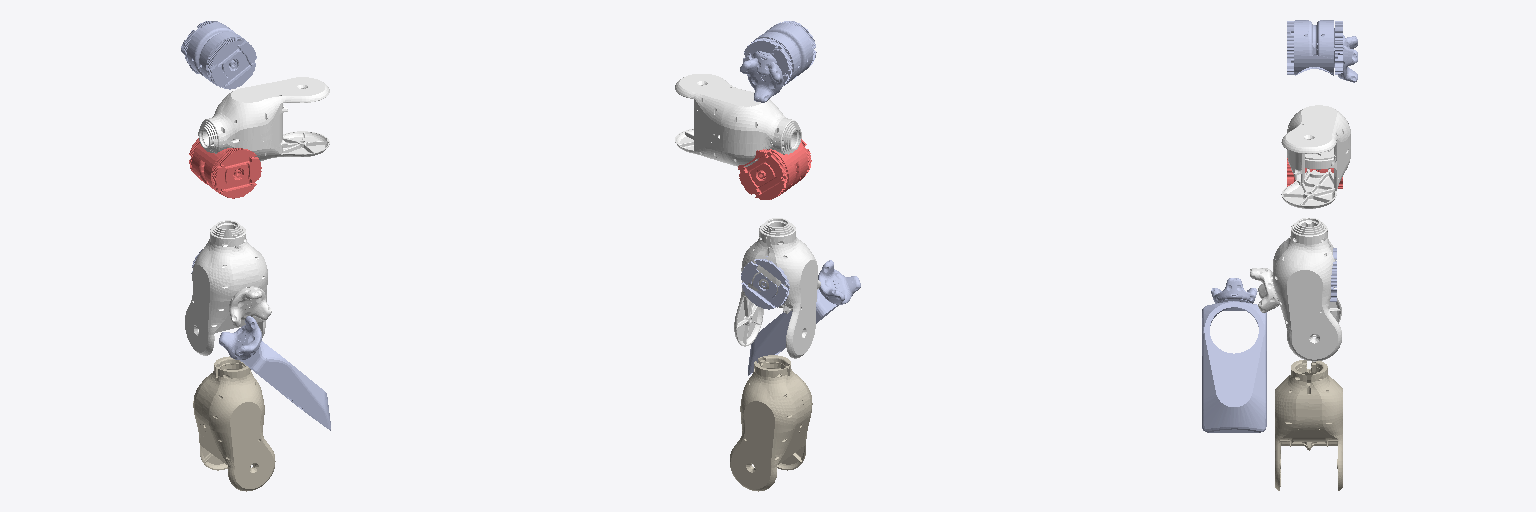
The robot description file, URDF, robot "koko_description_sevendof_dyn":
<robot
  name="koko_description_sevendof_dyn">
  <link
    name="base_link">
    <inertial>
      <origin
        xyz="0.0560024374186662 0.000189445541681321 0.0201835602327798"
        rpy="0 0 0" />
      <mass
        value="0.284612172465311" />
      <inertia
        ixx="0.000716950374478633"
        ixy="-4.58477843167981E-06"
        ixz="4.20772050305934E-06"
        iyy="0.00197711566495113"
        iyz="9.13561852910017E-07"
        izz="0.00239705630031167" />
    </inertial>
    <visual>
      <origin
        xyz="0 0 0"
        rpy="0 0 0" />
      <geometry>
        <mesh
          filename="package://koko_description_sevendof_dyn/meshes/base_link.STL" />
      </geometry>
      <material
        name="">
        <color
          rgba="0.792156862745098 0.819607843137255 0.933333333333333 1" />
      </material>
    </visual>
    <collision>
      <origin
        xyz="0 0 0"
        rpy="0 0 0" />
      <geometry>
        <mesh
          filename="package://koko_description_sevendof_dyn/meshes/base_link.STL" />
      </geometry>
    </collision>
  </link>
  <link
    name="shoulder_link">
    <inertial>
      <origin
        xyz="0.0043477541389173 2.01234773878345E-05 -0.0764683318824377"
        rpy="0 0 0" />
      <mass
        value="1.80901122392276" />
      <inertia
        ixx="0.0091937456982913"
        ixy="1.27362263865398E-08"
        ixz="0.00010247865043886"
        iyy="0.00871917388181738"
        iyz="3.26622166777351E-06"
        izz="0.00388062453070139" />
    </inertial>
    <visual>
      <origin
        xyz="0 0 0"
        rpy="0 0 0" />
      <geometry>
        <mesh
          filename="package://koko_description_sevendof_dyn/meshes/shoulder_link.STL" />
      </geometry>
      <material
        name="">
        <color
          rgba="0.843137254901961 0.815686274509804 0.752941176470588 1" />
      </material>
    </visual>
    <collision>
      <origin
        xyz="0 0 0"
        rpy="0 0 0" />
      <geometry>
        <mesh
          filename="package://koko_description_sevendof_dyn/meshes/shoulder_link.STL" />
      </geometry>
    </collision>
  </link>
  <joint
    name="base_roll_joint"
    type="revolute">
    <origin
      xyz="0 0 0.054356"
      rpy="3.1416 -2.2011E-29 0.0" />
    <parent
      link="base_link" />
    <child
      link="shoulder_link" />
    <axis
      xyz="0 0 1" />
    <limit
      lower="-2.3412"
      upper="3.3999"
      effort="0"
      velocity="0" />
  </joint>
  <link
    name="shoulder_lift_link">
    <inertial>
      <origin
        xyz="-5.0083559080677E-06 0.000232928456050885 -1.77451392545103E-05"
        rpy="0 0 0" />
      <mass
        value="0.388307108622636" />
      <inertia
        ixx="0.000804272985961788"
        ixy="4.84548777859872E-08"
        ixz="2.09160815704306E-06"
        iyy="0.000818260636171894"
        iyz="-1.44954778549764E-08"
        izz="0.000550840705045094" />
    </inertial>
    <visual>
      <origin
        xyz="0 0 0"
        rpy="0 0 0" />
      <geometry>
        <mesh
          filename="package://koko_description_sevendof_dyn/meshes/shoulder_lift_link.STL" />
      </geometry>
      <material
        name="">
        <color
          rgba="0.792156862745098 0.819607843137255 0.933333333333333 1" />
      </material>
    </visual>
    <collision>
      <origin
        xyz="0 0 0"
        rpy="0 0 0" />
      <geometry>
        <mesh
          filename="package://koko_description_sevendof_dyn/meshes/shoulder_lift_link.STL" />
      </geometry>
    </collision>
  </link>
  <joint
    name="shoulder_lift_joint"
    type="revolute">
    <origin
      xyz="-0.01143 0 -0.21082"
      rpy="-1.5708 4.4409E-16 3.1416" />
    <parent
      link="shoulder_link" />
    <child
      link="shoulder_lift_link" />
    <axis
      xyz="0 0 1" />
    <limit
      lower="-2.2944"
      upper="0"
      effort="0"
      velocity="0" />
  </joint>
  <link
    name="upper_arm_link">
    <inertial>
      <origin
        xyz="0.0052656488201055 5.32997221069781E-05 -0.0641725544925586"
        rpy="0 0 0" />
      <mass
        value="1.52396434922939" />
      <inertia
        ixx="0.00578789299599043"
        ixy="1.90247522695056E-06"
        ixz="-6.31088143287672E-05"
        iyy="0.00530315640050716"
        iyz="1.26895335190205E-06"
        izz="0.00342501474546171" />
    </inertial>
    <visual>
      <origin
        xyz="0 0 0"
        rpy="0 0 0" />
      <geometry>
        <mesh
          filename="package://koko_description_sevendof_dyn/meshes/upper_arm_link.STL" />
      </geometry>
      <material
        name="">
        <color
          rgba="1 1 1 1" />
      </material>
    </visual>
    <collision>
      <origin
        xyz="0 0 0"
        rpy="0 0 0" />
      <geometry>
        <mesh
          filename="package://koko_description_sevendof_dyn/meshes/upper_arm_link.STL" />
      </geometry>
    </collision>
  </link>
  <joint
    name="shoulder_roll_joint"
    type="revolute">
    <origin
      xyz="0 0.070147 -6.25E-05"
      rpy="-1.5708 1.5673 -3.1416" />
    <parent
      link="shoulder_lift_link" />
    <child
      link="upper_arm_link" />
    <axis
      xyz="0 0 1" />
    <limit
      lower="-2.6761"
      upper="2.6761"
      effort="0"
      velocity="0" />
  </joint>
  <link
    name="upper_arm_lift_link">
    <inertial>
      <origin
        xyz="9.06307628945058E-09 -0.00233330219603445 -1.63700112519316E-05"
        rpy="0 0 0" />
      <mass
        value="0.336087767400233" />
      <inertia
        ixx="0.000748389205107341"
        ixy="-4.35589119855736E-12"
        ixz="2.09357080801154E-06"
        iyy="0.00080505708271284"
        iyz="-3.61399621116489E-08"
        izz="0.000495723704552229" />
    </inertial>
    <visual>
      <origin
        xyz="0 0 0"
        rpy="0 0 0" />
      <geometry>
        <mesh
          filename="package://koko_description_sevendof_dyn/meshes/upper_arm_lift_link.STL" />
      </geometry>
      <material
        name="">
        <color
          rgba="1 0.501960784313725 0.501960784313725 1" />
      </material>
    </visual>
    <collision>
      <origin
        xyz="0 0 0"
        rpy="0 0 0" />
      <geometry>
        <mesh
          filename="package://koko_description_sevendof_dyn/meshes/upper_arm_lift_link.STL" />
      </geometry>
    </collision>
  </link>
  <joint
    name="elbow_lift_joint"
    type="revolute">
    <origin
      xyz="-0.01143 -4.0407E-05 -0.18056"
      rpy="-1.5708 -8.5189E-16 -3.1381" />
    <parent
      link="upper_arm_link" />
    <child
      link="upper_arm_lift_link" />
    <axis
      xyz="0 0 1" />
    <limit
      lower="-2.2944"
      upper="0"
      effort="0"
      velocity="0" />
  </joint>
  <link
    name="forearm_link">
    <inertial>
      <origin
        xyz="0.00526385736219506 2.70691865020822E-05 -0.0641638075944594"
        rpy="0 0 0" />
      <mass
        value="1.52367945216034" />
      <inertia
        ixx="0.0057866591250737"
        ixy="3.71515699629511E-07"
        ixz="-6.32890111626103E-05"
        iyy="0.00530223654324281"
        iyz="8.9999884666805E-07"
        izz="0.00342399181200673" />
    </inertial>
    <visual>
      <origin
        xyz="0 0 0"
        rpy="0 0 0" />
      <geometry>
        <mesh
          filename="package://koko_description_sevendof_dyn/meshes/forearm_link.STL" />
      </geometry>
      <material
        name="">
        <color
          rgba="1 1 1 1" />
      </material>
    </visual>
    <collision>
      <origin
        xyz="0 0 0"
        rpy="0 0 0" />
      <geometry>
        <mesh
          filename="package://koko_description_sevendof_dyn/meshes/forearm_link.STL" />
      </geometry>
    </collision>
  </link>
  <joint
    name="elbow_roll_joint"
    type="revolute">
    <origin
      xyz="0 0.070147 -6.25E-05"
      rpy="1.5708 -1.5708 0" />
    <parent
      link="upper_arm_lift_link" />
    <child
      link="forearm_link" />
    <axis
      xyz="0 0 1" />
    <limit
      lower="-2.6761"
      upper="2.6761"
      effort="0"
      velocity="0" />
  </joint>
  <link
    name="wrist_lift_link">
    <inertial>
      <origin
        xyz="-5.0041305142412E-06 0.000232915126013089 -1.77452141933987E-05"
        rpy="0 0 0" />
      <mass
        value="0.388307111315058" />
      <inertia
        ixx="0.000804244148456861"
        ixy="4.84475098854999E-08"
        ixz="2.09169561517307E-06"
        iyy="0.00081823161778444"
        iyz="-1.44597555369205E-08"
        izz="0.000550840502999506" />
    </inertial>
    <visual>
      <origin
        xyz="0 0 0"
        rpy="0 0 0" />
      <geometry>
        <mesh
          filename="package://koko_description_sevendof_dyn/meshes/wrist_lift_link.STL" />
      </geometry>
      <material
        name="">
        <color
          rgba="0.792156862745098 0.819607843137255 0.933333333333333 1" />
      </material>
    </visual>
    <collision>
      <origin
        xyz="0 0 0"
        rpy="0 0 0" />
      <geometry>
        <mesh
          filename="package://koko_description_sevendof_dyn/meshes/wrist_lift_link.STL" />
      </geometry>
    </collision>
  </link>
  <joint
    name="wrist_lift_joint"
    type="revolute">
    <origin
      xyz="-0.01143 0 -0.18056"
      rpy="-1.5708 6.6613E-16 -3.1416" />
    <parent
      link="forearm_link" />
    <child
      link="wrist_lift_link" />
    <axis
      xyz="0 0 1" />
    <limit
      lower="-2.2944"
      upper="0"
      effort="0"
      velocity="0" />
  </joint>
  <link
    name="wrist_roll_link">
    <inertial>
      <origin
        xyz="-7.00549073506807E-05 2.51271935254316E-05 -0.052367118189184"
        rpy="0 0 0" />
      <mass
        value="0.247109755986862" />
      <inertia
        ixx="0.000916887873826385"
        ixy="-6.04547948818479E-08"
        ixz="1.6796133363069E-06"
        iyy="0.000877268801166351"
        iyz="5.64172907801915E-07"
        izz="0.000293333065172452" />
    </inertial>
    <visual>
      <origin
        xyz="0 0 0"
        rpy="0 0 0" />
      <geometry>
        <mesh
          filename="package://koko_description_sevendof_dyn/meshes/wrist_roll_link.STL" />
      </geometry>
      <material
        name="">
        <color
          rgba="0.792156862745098 0.819607843137255 0.933333333333333 1" />
      </material>
    </visual>
    <collision>
      <origin
        xyz="0 0 0"
        rpy="0 0 0" />
      <geometry>
        <mesh
          filename="package://koko_description_sevendof_dyn/meshes/wrist_roll_link.STL" />
      </geometry>
    </collision>
  </link>
  <joint
    name="wrist_roll_joint"
    type="revolute">
    <origin
      xyz="0 0.070147 -6.25E-05"
      rpy="-1.5708 -2.4803E-15 -3.1416" />
    <parent
      link="wrist_lift_link" />
    <child
      link="wrist_roll_link" />
    <axis
      xyz="0 0 1" />
    <limit
      lower="-2.6761"
      upper="2.6761"
      effort="0"
      velocity="0" />
  </joint>

  <link
    name="gripper_link">
    <inertial>
      <origin
        xyz="-7.00549073506807E-05 2.51271935254316E-05 -0.052367118189184"
        rpy="0 0 0" />
      <mass
        value="0.047109755986862" />
      <inertia
        ixx="0.000916887873826385"
        ixy="-6.04547948818479E-08"
        ixz="0.6796133363069E-06"
        iyy="0.000877268801166351"
        iyz="0.64172907801915E-07"
        izz="0.000293333065172452" />
    </inertial>
    <visual>
      <origin
        xyz="0 0 0"
        rpy="0 0 0" />
      <geometry>
        <mesh
          filename="package://koko_description_sevendof_dyn/meshes/wrist_roll_link.STL" />
      </geometry>
      <material
        name="">
        <color
          rgba="0.792156862745098 0.819607843137255 0.933333333333333 1" />
      </material>
    </visual>
    <collision>
      <origin
        xyz="0 0 0"
        rpy="0 0 0" />
      <geometry>
        <mesh
          filename="package://koko_description_sevendof_dyn/meshes/wrist_roll_link.STL" />
      </geometry>
    </collision>
  </link>
  <joint
    name="gripper_joint"
    type="revolute">
    <origin
      xyz="0 0.070147 -6.25E-05"
      rpy="-1.5708 -2.4803E-15 -3.1416" />
    <parent
      link="wrist_roll_link" />
    <child
      link="gripper_link" />
    <axis
      xyz="0 0 1" />
    <limit
      lower="-2.6761"
      upper="2.6761"
      effort="0"
      velocity="0" />
  </joint>
</robot>

--- Facts derived from the render (not from the file) ---
Views: 3 orthographic renders of the robot side by side, from view 1: azimuth 30°, elevation 25°; view 2: azimuth 150°, elevation 25°; view 3: azimuth 270°, elevation 25°.
Model koko_description_sevendof_dyn with 9 links and 8 joints (8 revolute), rooted at base_link, posed every joint at zero.
Links seen in each view (by area): view 1: shoulder_link, upper_arm_link, forearm_link, base_link, wrist_lift_link, upper_arm_lift_link; view 2: shoulder_link, forearm_link, upper_arm_link, base_link, upper_arm_lift_link, wrist_lift_link, shoulder_lift_link, wrist_roll_link; view 3: upper_arm_link, base_link, shoulder_link, forearm_link, wrist_lift_link, wrist_roll_link.
Link boxes in pixels (<box>): shoulder_link: <box>193,356,275,491</box>; upper_arm_link: <box>185,220,271,355</box>; forearm_link: <box>198,77,329,161</box>; base_link: <box>219,316,330,430</box>; wrist_lift_link: <box>184,21,256,89</box>; upper_arm_lift_link: <box>189,138,261,198</box>; shoulder_link: <box>730,355,812,491</box>; forearm_link: <box>675,74,801,166</box>; upper_arm_link: <box>734,218,820,358</box>; base_link: <box>748,260,860,375</box>; upper_arm_lift_link: <box>738,139,811,199</box>; wrist_lift_link: <box>743,21,816,86</box>; shoulder_lift_link: <box>741,256,789,309</box>; wrist_roll_link: <box>740,57,783,102</box>; upper_arm_link: <box>1250,218,1341,361</box>; base_link: <box>1202,278,1266,432</box>; shoulder_link: <box>1275,360,1342,490</box>; forearm_link: <box>1281,105,1350,208</box>; wrist_lift_link: <box>1287,20,1342,75</box>; wrist_roll_link: <box>1338,36,1357,82</box>.
Bounding box of the posed robot: 0.3229 × 0.3162 × 1.03 m (x, y, z).
Meshes: 8 distinct files referenced, 9 mesh visuals loaded (8 binary STL).
